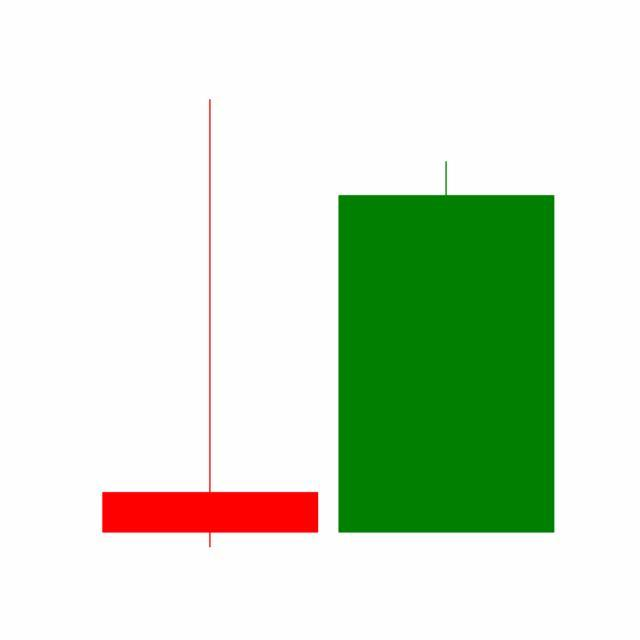Marubozu: (328, 157, 566, 537)
